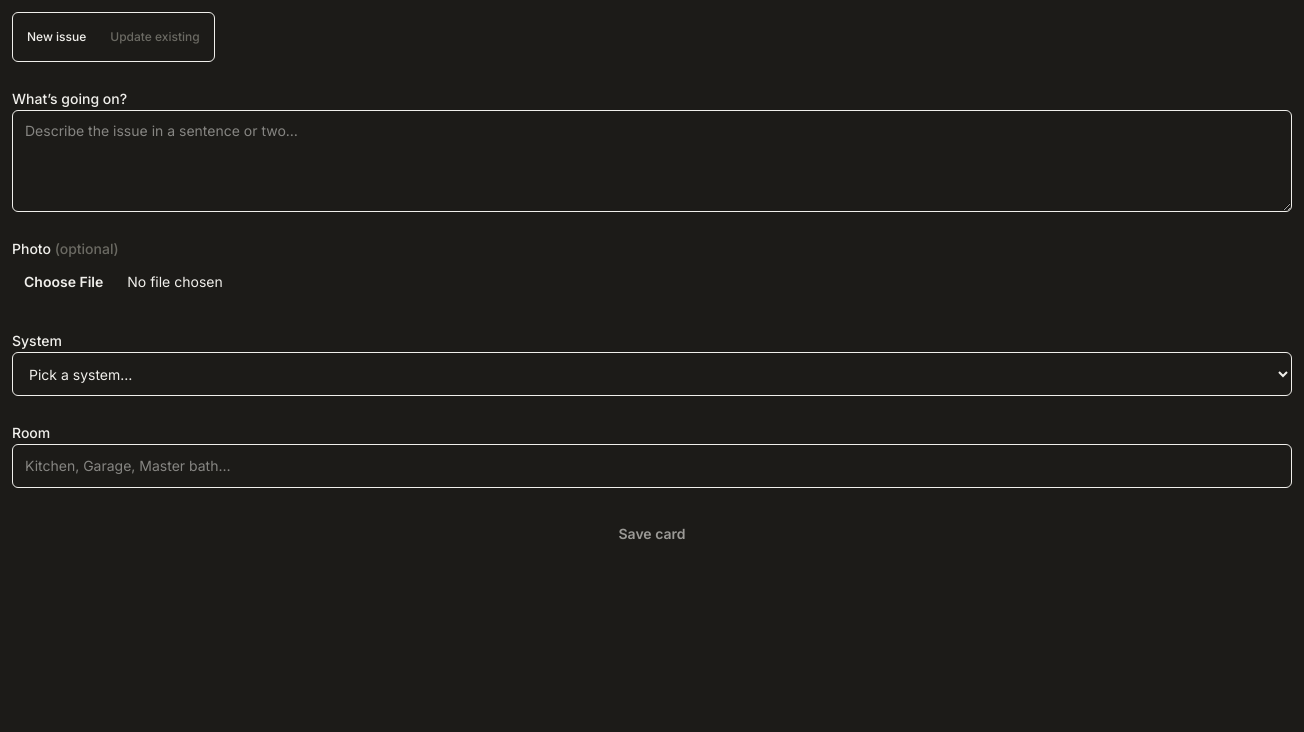
Test case: <CaptureForm /> › keeps Submit disabled until all three required fields are valid
The image size is (1304, 732).
Expected: the button "Save card" is disabled, [12,512,1292,556]
In the text box labelled "What’s going on?": point(652, 161) [12,110,1292,212], type "Just description"
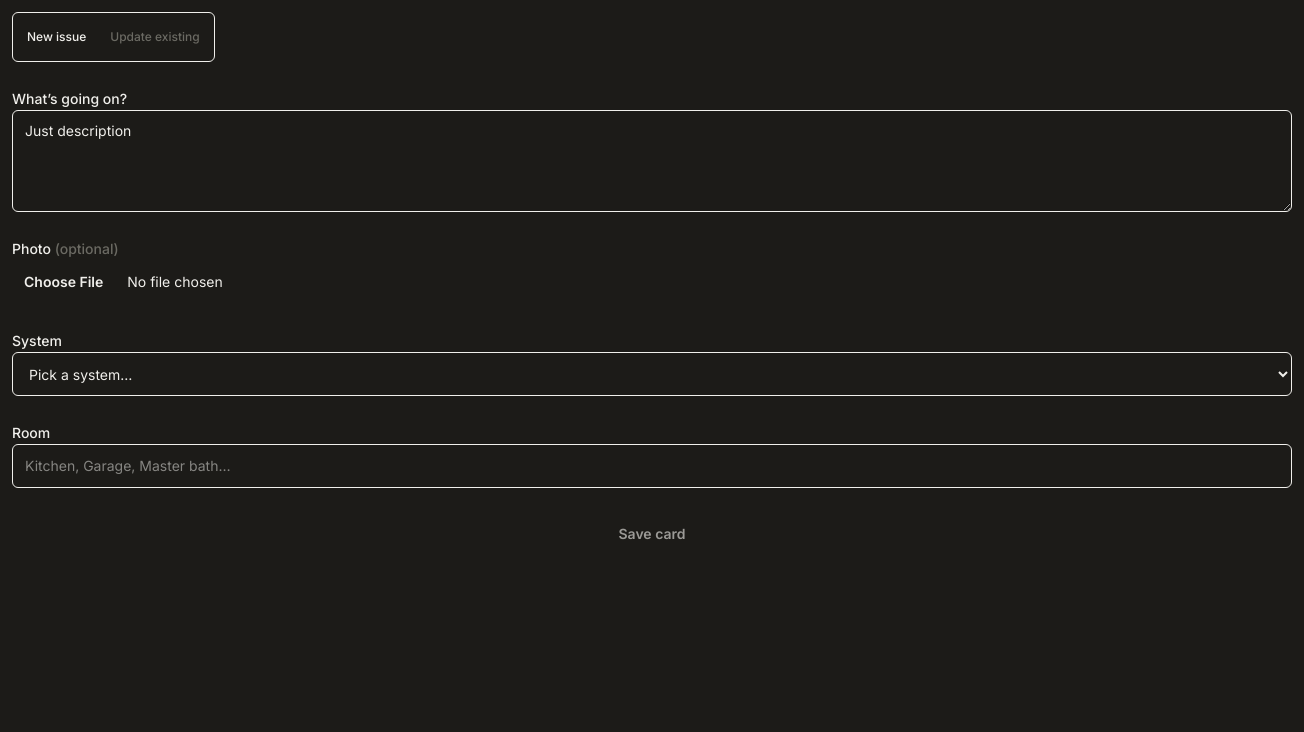
Expected: the button "Save card" is disabled, [12,512,1292,556]
Select "Plumbing" in the dropdown labelled "System": point(652, 374) [12,352,1292,396]
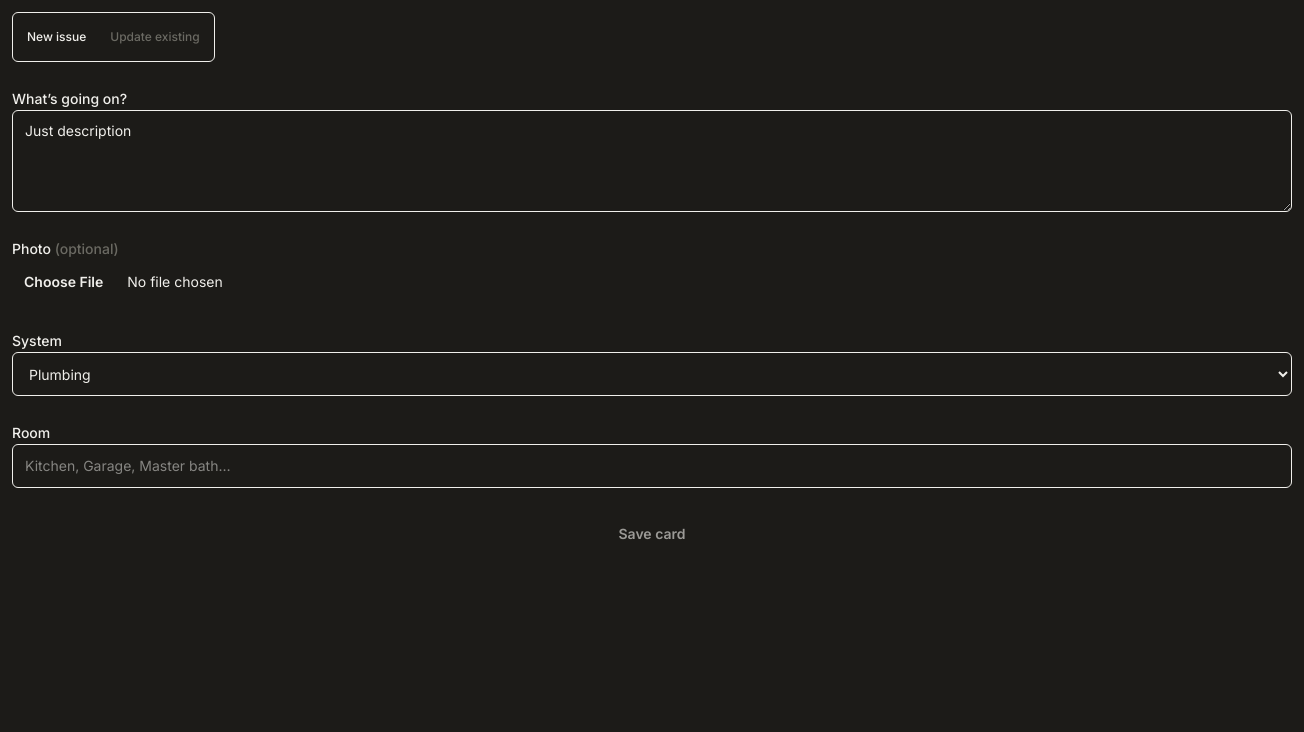
Expected: the button "Save card" is disabled, [12,512,1292,556]
In the field labelled "Room": point(652, 466) [12,444,1292,488], type "Kitchen"
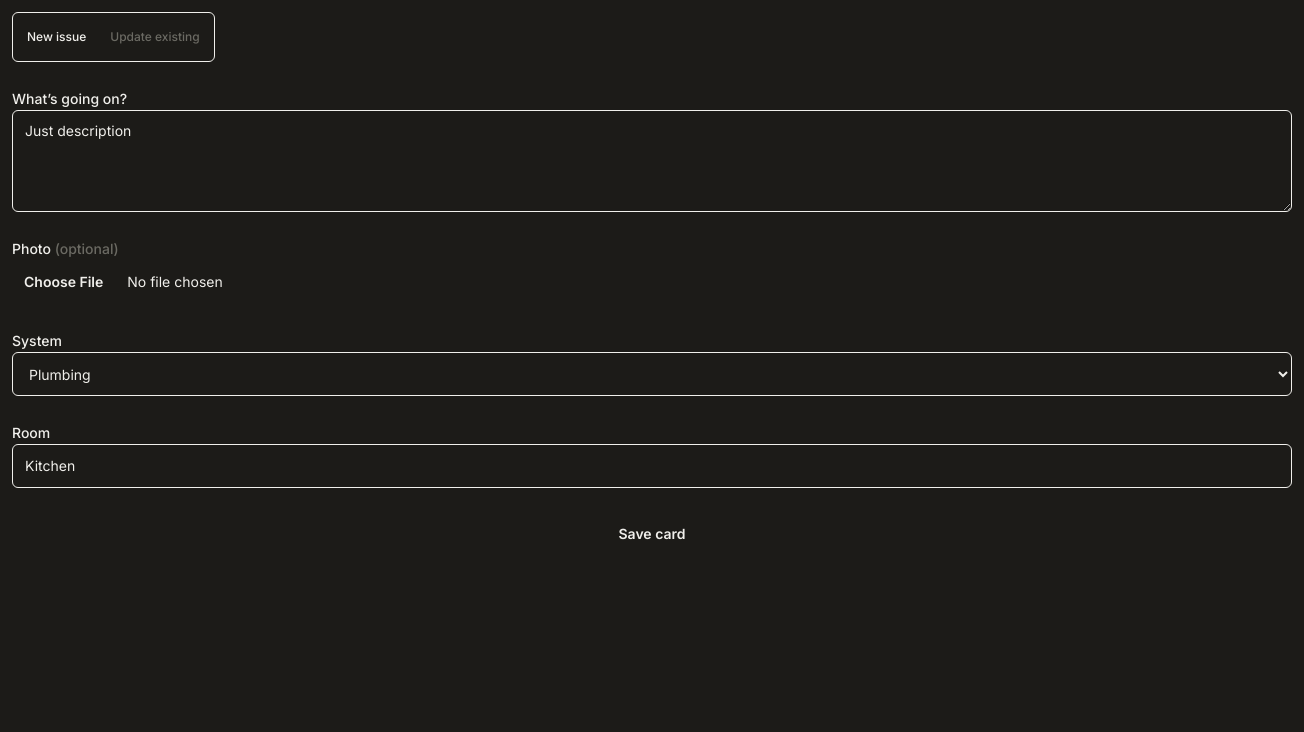
Expected: the button "Save card" is enabled, [12,512,1292,556]
